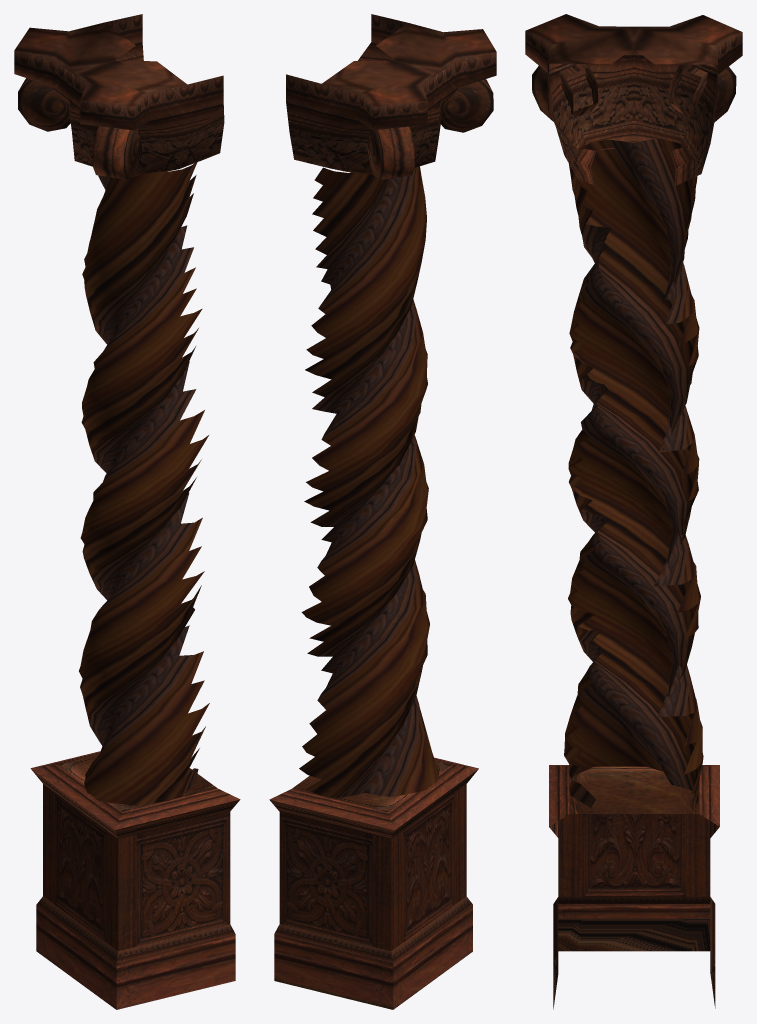
Rendered from Column_Twisted_Half.fbx.
The picture shows the model from 3 angles, left to right: view 1: azimuth 30°, elevation 25°; view 2: azimuth 150°, elevation 25°; view 3: azimuth 270°, elevation 25°; orthographic projection.
Parts seen in each view (by area): view 1: TwistedColumnHalf_LOD0; view 2: TwistedColumnHalf_LOD0; view 3: TwistedColumnHalf_LOD0.
Boxes of the visible parts, x1,y1,x2,y2 form: TwistedColumnHalf_LOD0: (14, 14, 240, 1009); TwistedColumnHalf_LOD0: (269, 14, 496, 1009); TwistedColumnHalf_LOD0: (525, 14, 742, 1009).
Size of what is drawn, in the model's own units: 36.6 by 210 by 44.82.
